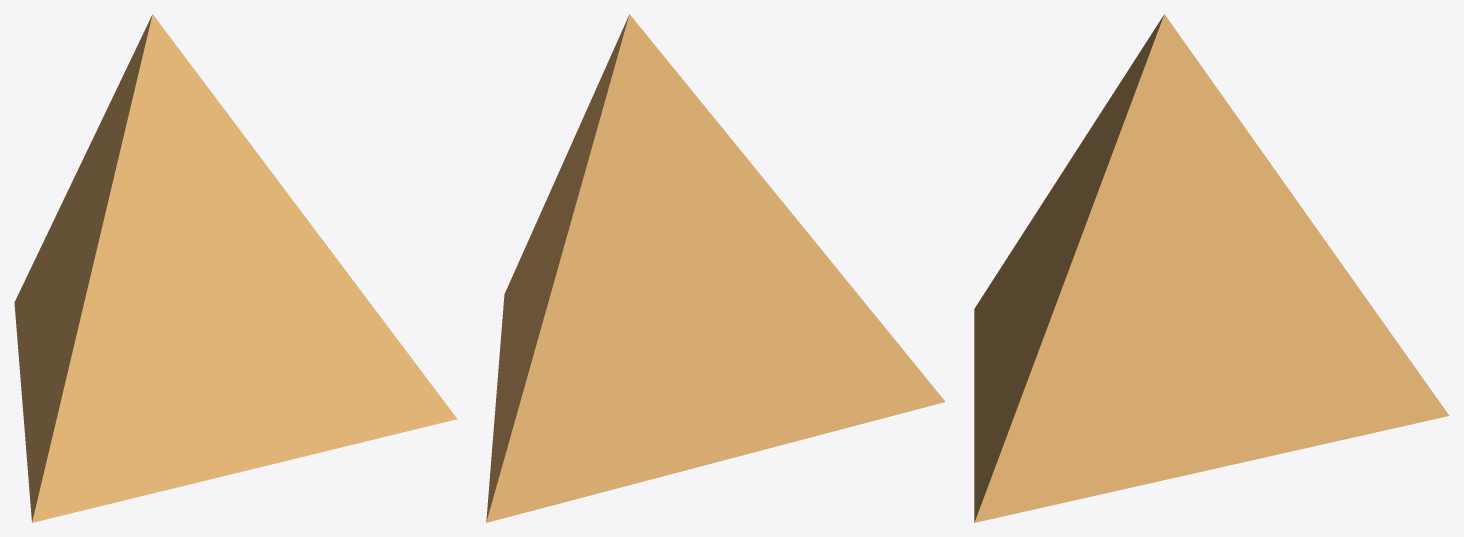
Rendered from chase-test-pyramid.glb.
The picture shows the model from 3 angles, left to right: view 1: azimuth 30°, elevation 25°; view 2: azimuth 150°, elevation 25°; view 3: azimuth 270°, elevation 25°; orthographic projection. The views are drawn at different scales.
Visible parts, largest first — view 1: ChaseTestPyramid; view 2: ChaseTestPyramid; view 3: ChaseTestPyramid.
Boxes of the visible parts, x1=… form: ChaseTestPyramid: x1=14, y1=14, x2=457, y2=522; ChaseTestPyramid: x1=486, y1=14, x2=945, y2=522; ChaseTestPyramid: x1=974, y1=14, x2=1449, y2=522.
Bounding box in the file's own units: 1.6 × 1.4 × 1.5.
